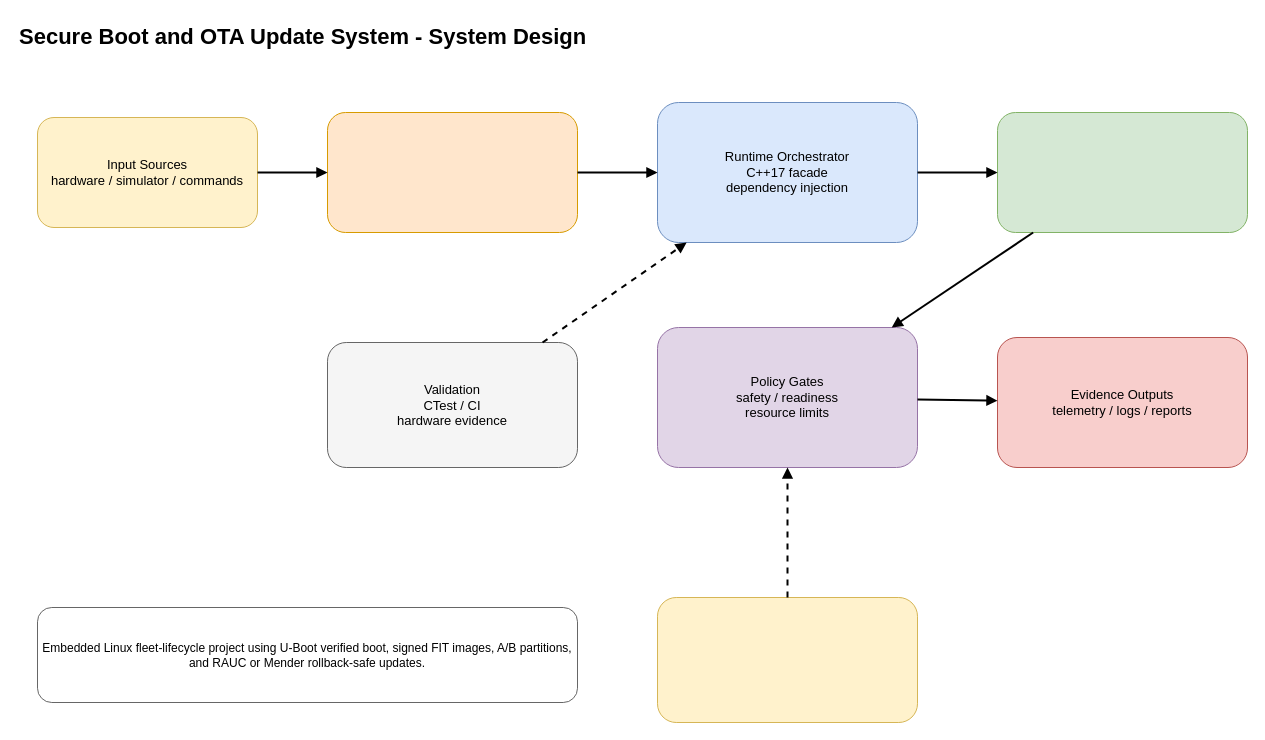
This 1265x740 diagram has some shape labels left out. Here are the shapes that lost their labels. From the top down, the box of each, then its label:
(326, 112, 578, 232): Adapter Layer bus / OS / driver / transport
(996, 112, 1248, 232): Domain Model typed state project decision
(656, 596, 918, 722): Roadmap design / host runtime target adapters / evidence
